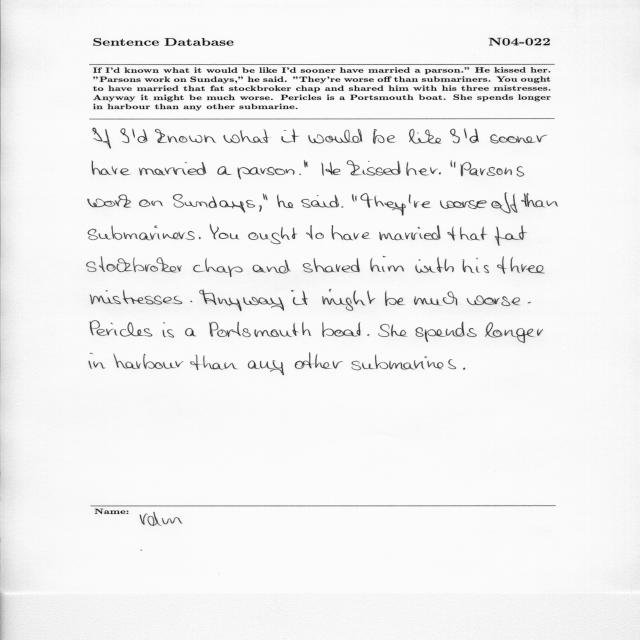word: (199, 290, 284, 311), (87, 256, 182, 273), (88, 226, 195, 241), (352, 355, 457, 370), (209, 322, 311, 337), (173, 194, 255, 212), (90, 290, 182, 305), (416, 322, 477, 342), (485, 322, 543, 343), (323, 289, 376, 311), (113, 353, 184, 369), (360, 193, 406, 216), (90, 321, 152, 337), (461, 162, 525, 177), (193, 258, 243, 277), (379, 225, 440, 240), (139, 162, 206, 175), (497, 256, 545, 274), (303, 258, 360, 273), (155, 129, 216, 143), (248, 227, 298, 244), (295, 352, 343, 369), (308, 129, 362, 144), (347, 161, 401, 176), (190, 355, 238, 370), (495, 225, 528, 246), (238, 167, 295, 179), (414, 291, 457, 306), (224, 129, 270, 143), (415, 257, 454, 273), (88, 194, 131, 208), (92, 161, 131, 176), (331, 225, 370, 240), (322, 322, 361, 337), (448, 227, 488, 241), (492, 193, 518, 214), (370, 256, 404, 272), (466, 296, 520, 306), (248, 360, 284, 375), (521, 193, 558, 207), (491, 135, 548, 144), (252, 260, 291, 273), (301, 195, 339, 208), (406, 162, 441, 176), (409, 129, 441, 144), (210, 224, 240, 239), (440, 200, 487, 209), (462, 258, 489, 273), (378, 324, 407, 337), (93, 128, 111, 148), (373, 129, 395, 144), (385, 290, 405, 306), (409, 194, 431, 208), (321, 162, 341, 176), (306, 225, 324, 240), (89, 353, 105, 369), (291, 290, 308, 305), (282, 129, 300, 143), (277, 194, 294, 208), (133, 129, 148, 143), (464, 129, 479, 143), (139, 199, 163, 207), (163, 322, 174, 338), (450, 129, 460, 143), (121, 128, 130, 143), (217, 166, 232, 175), (185, 328, 197, 336), (352, 194, 357, 202), (304, 160, 308, 167), (263, 194, 267, 201), (450, 160, 453, 167), (259, 205, 262, 212), (454, 162, 456, 168), (367, 334, 370, 336), (341, 206, 343, 208), (199, 237, 201, 239), (463, 368, 465, 370), (528, 302, 531, 303), (300, 174, 302, 175), (190, 301, 192, 302)
